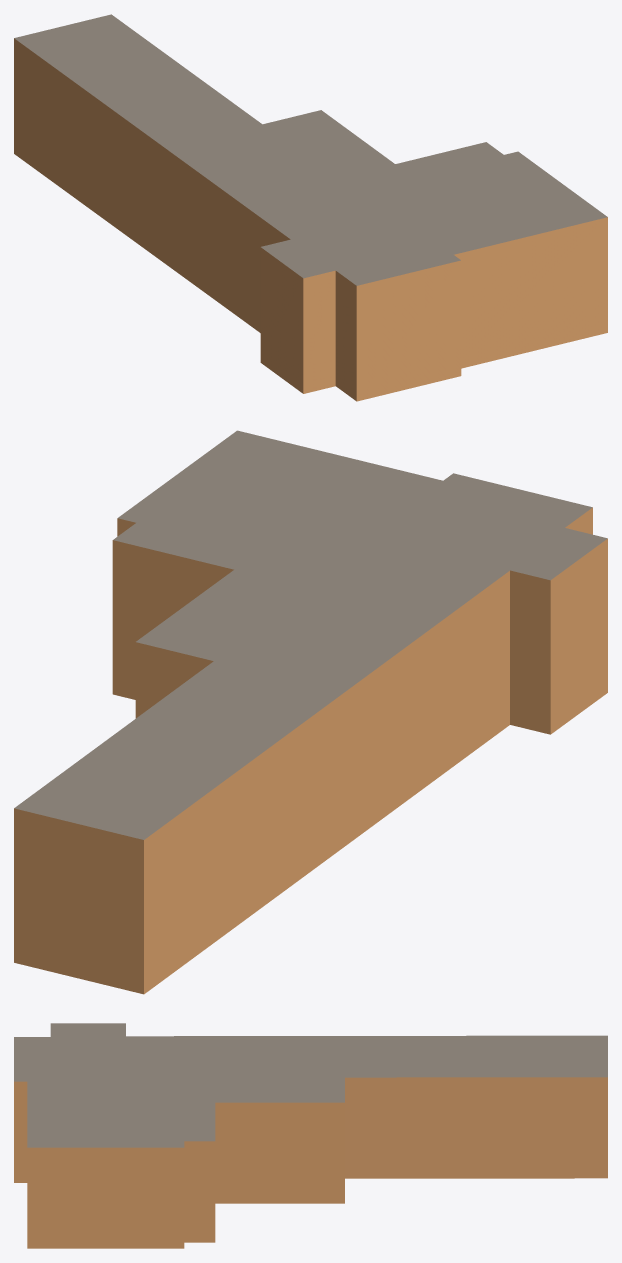
3 views of the same model, one above another, from view 1: azimuth 30°, elevation 25°; view 2: azimuth 150°, elevation 25°; view 3: azimuth 270°, elevation 25° (orthographic). The views are drawn at different scales.
Parts seen in each view (by area): view 1: element.012; view 2: element.012; view 3: element.012.
Boxes of the visible parts, x1,y1,x2,y2 form: element.012: [14, 14, 607, 401]; element.012: [14, 430, 607, 994]; element.012: [14, 1023, 607, 1248].
Size of the model in its own units: 39.18 by 14.88 by 79.15.
